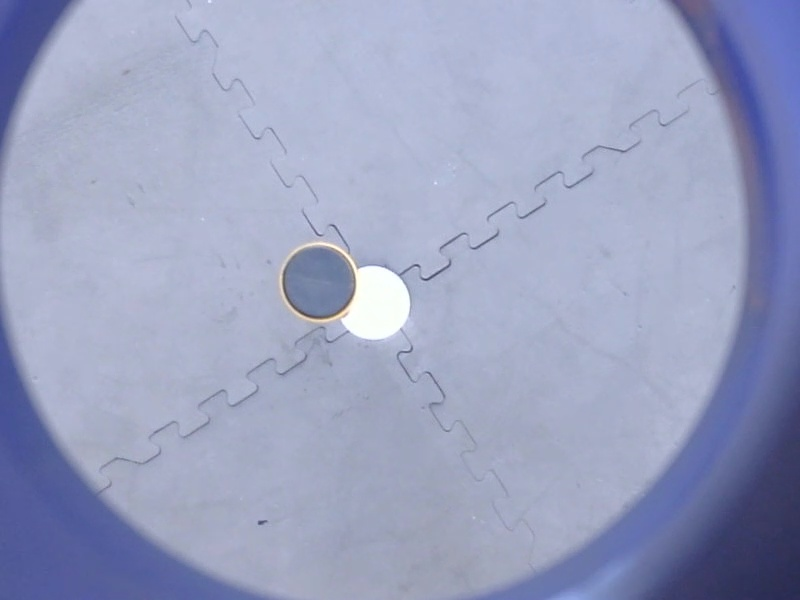tip: (273, 239, 362, 326)
